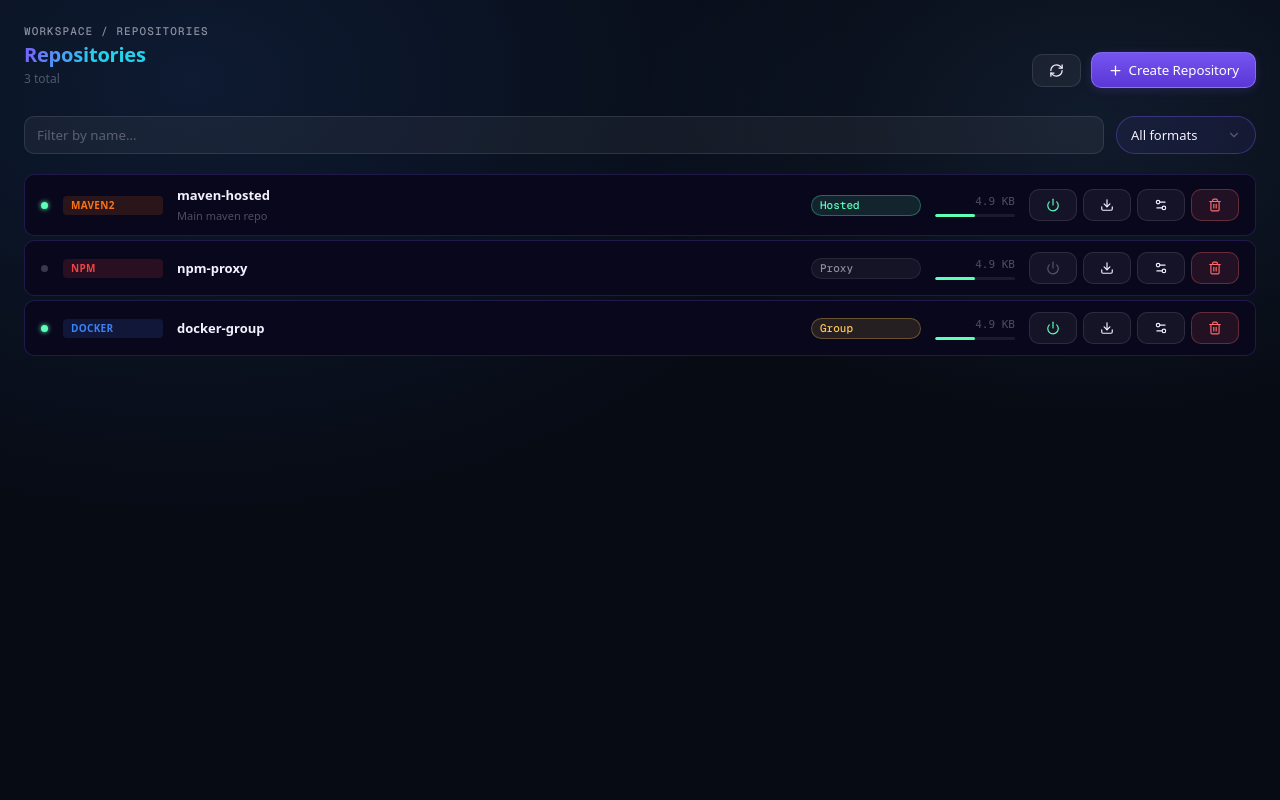
Test: RepositoriesPage › validates the required name in the wizard
The image size is (1280, 800).
Check: the text "maven-hosted" is shown, box x1=177 y1=186 x2=270 y2=204
What coordinates should you click on to do the following:
click the button "Create Repository"
I would click on:
 (1173, 70)
Its box is x1=1091 y1=52 x2=1256 y2=88.
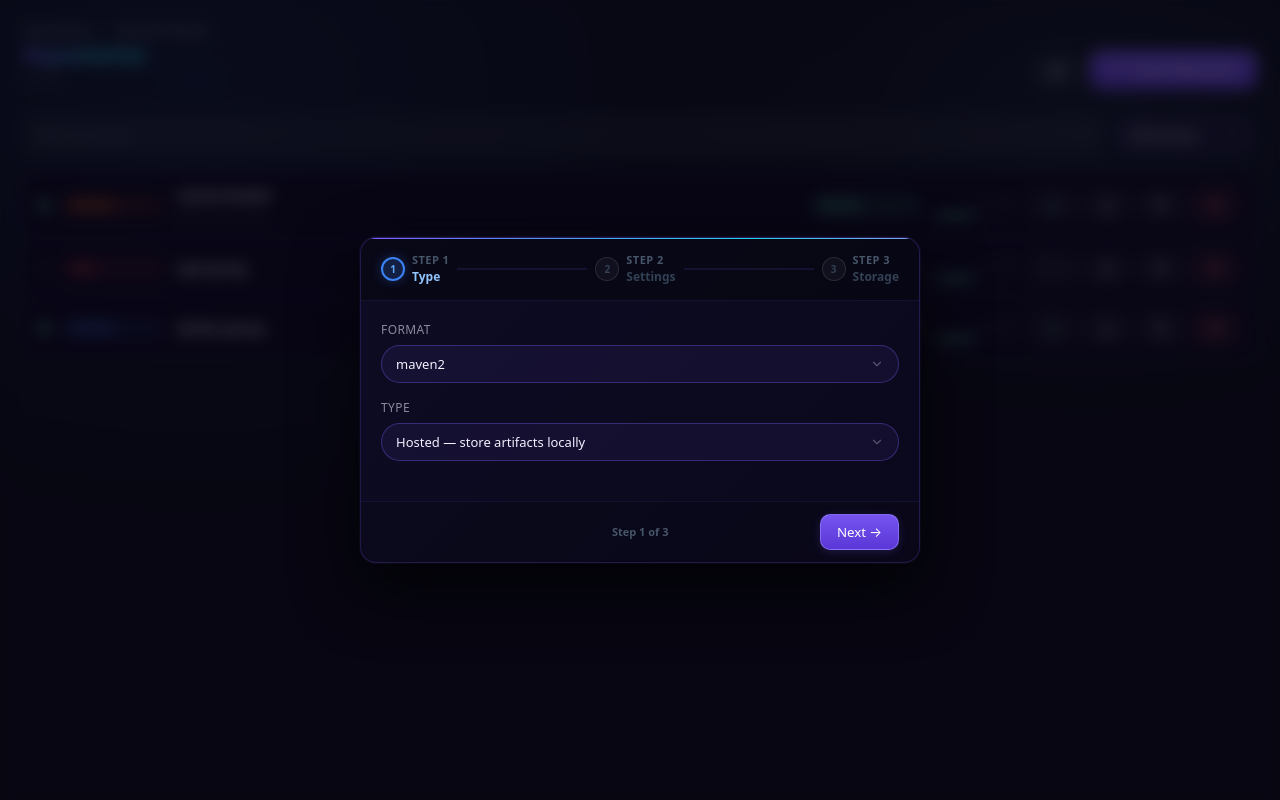
Check: the text "Step 1 of 3" is shown, box x1=612 y1=524 x2=668 y2=540
What coordinates should you click on to do the following:
click the button "Next →"
I would click on:
 (860, 532)
Its box is x1=820 y1=514 x2=899 y2=550.
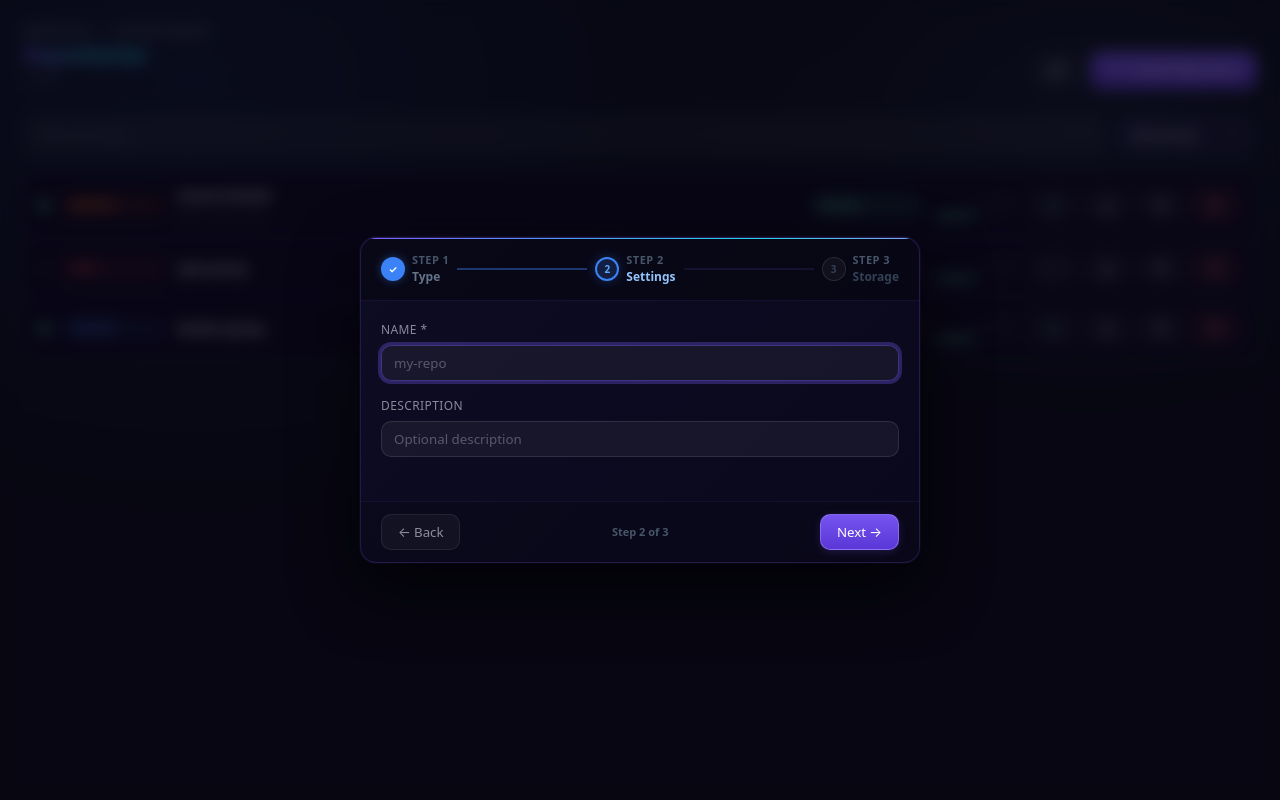
Check: the text "Step 2 of 3" is shown, box x1=612 y1=524 x2=668 y2=540
// no name → Next should error
What coordinates should you click on to do the following:
click the button "Next →"
I would click on:
 (860, 532)
Its box is x1=820 y1=514 x2=899 y2=550.
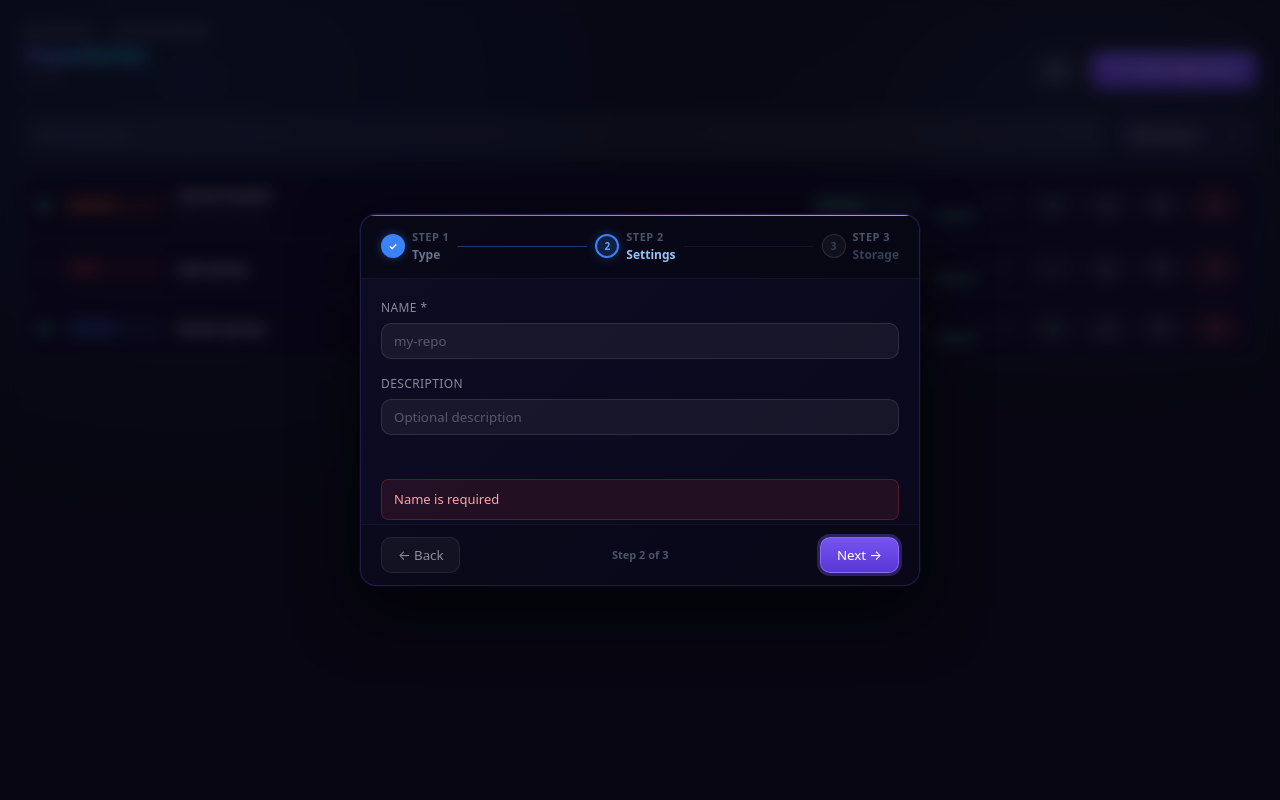
Check: the text "Name is required" is shown, box x1=381 y1=478 x2=899 y2=520
